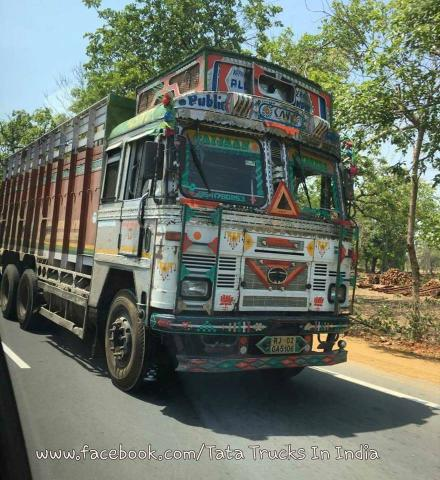truck: (0, 34, 364, 408)
